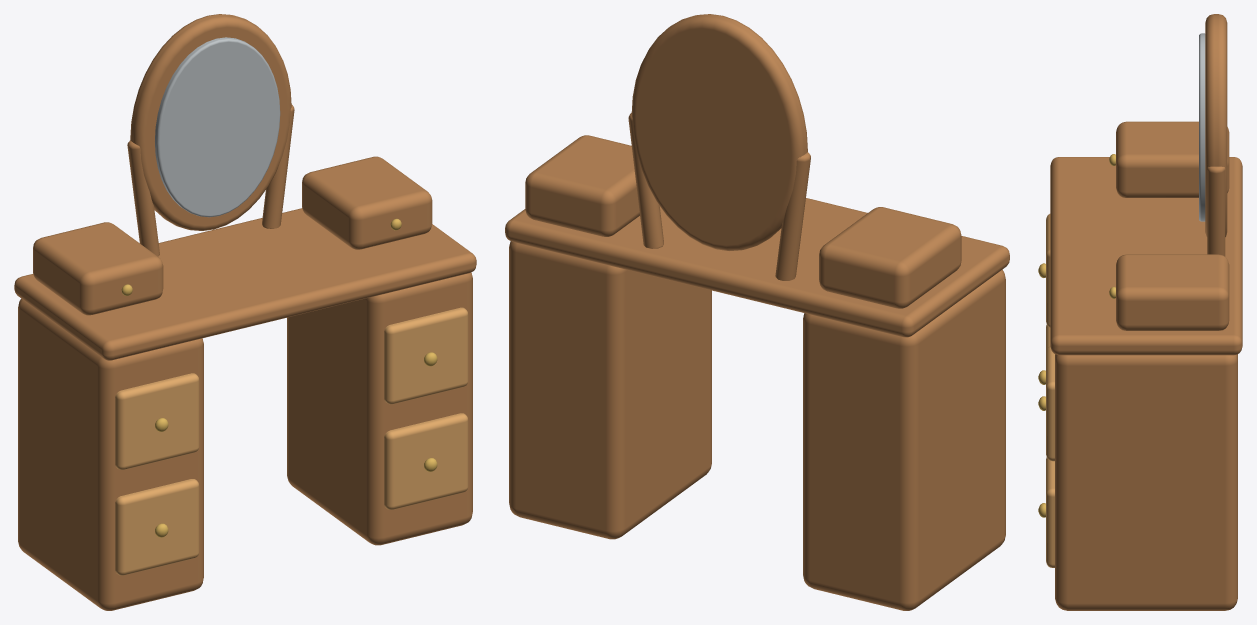
File: antique_vanity.glb
The picture shows the model from 3 angles, left to right: view 1: azimuth 30°, elevation 25°; view 2: azimuth 150°, elevation 25°; view 3: azimuth 270°, elevation 25°; orthographic projection. The views are drawn at different scales.
Visible parts, largest first — view 1: antique_vanity_mesh; view 2: antique_vanity_mesh; view 3: antique_vanity_mesh.
Boxes of the visible parts, <box> form: antique_vanity_mesh: <box>14,14,476,610</box>; antique_vanity_mesh: <box>505,14,1009,610</box>; antique_vanity_mesh: <box>1038,14,1242,610</box>.
Bounding box in the file's own units: 1 × 1.27 × 0.4674.
